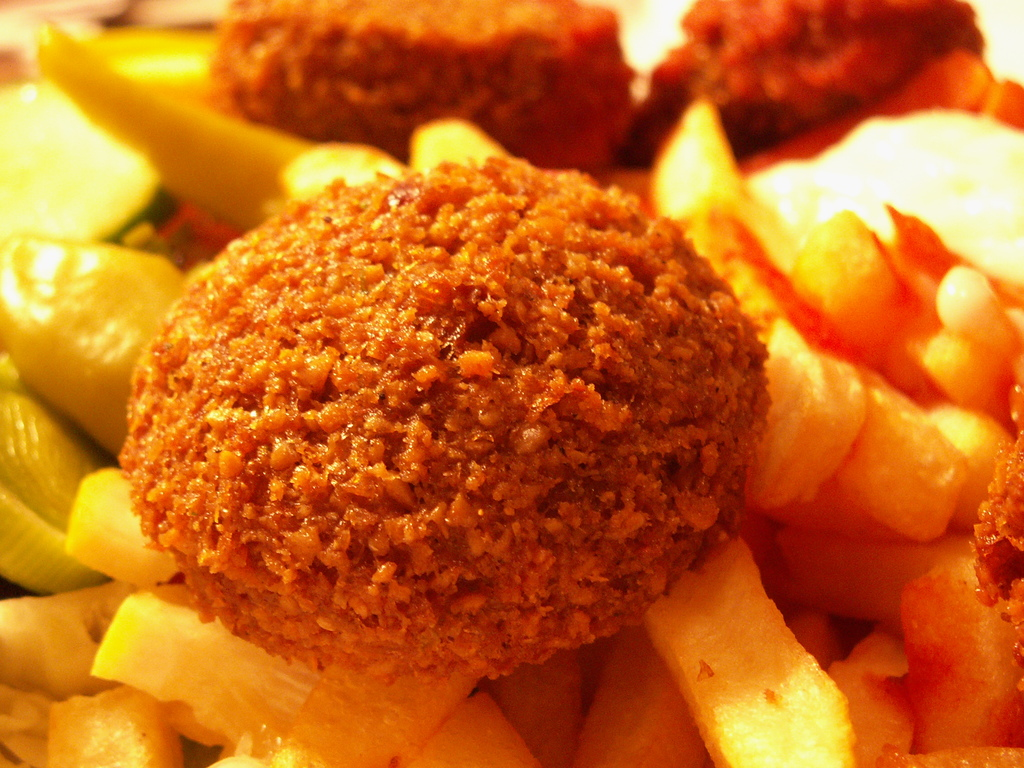French fries: (4, 24, 314, 207)
